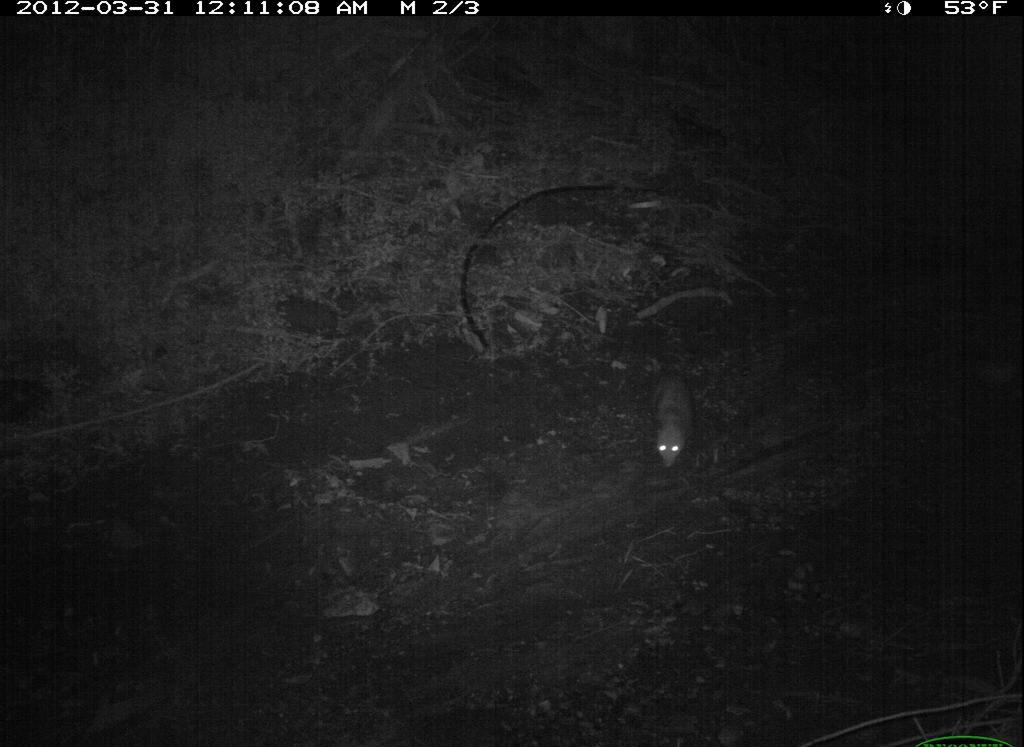opossum: (638, 347, 703, 478)
